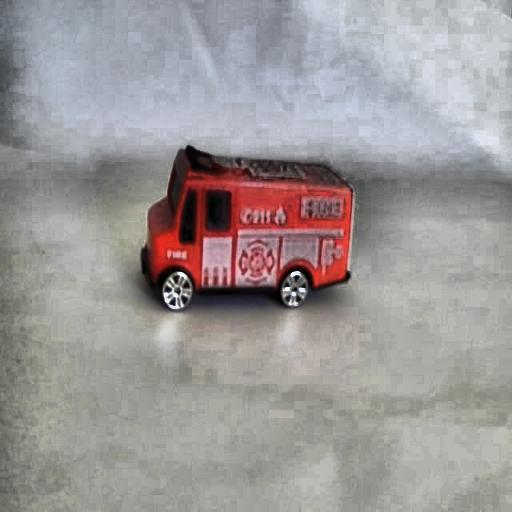fire_truck: (136, 147, 356, 308)
